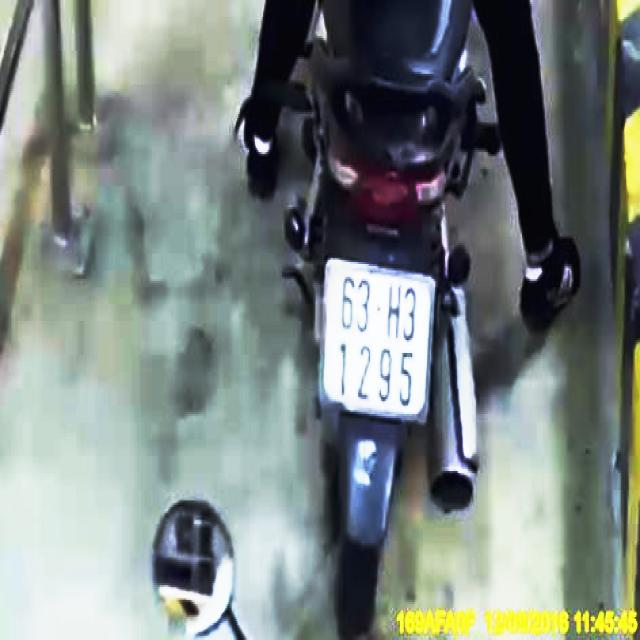license_plate: (324, 260, 441, 422)
